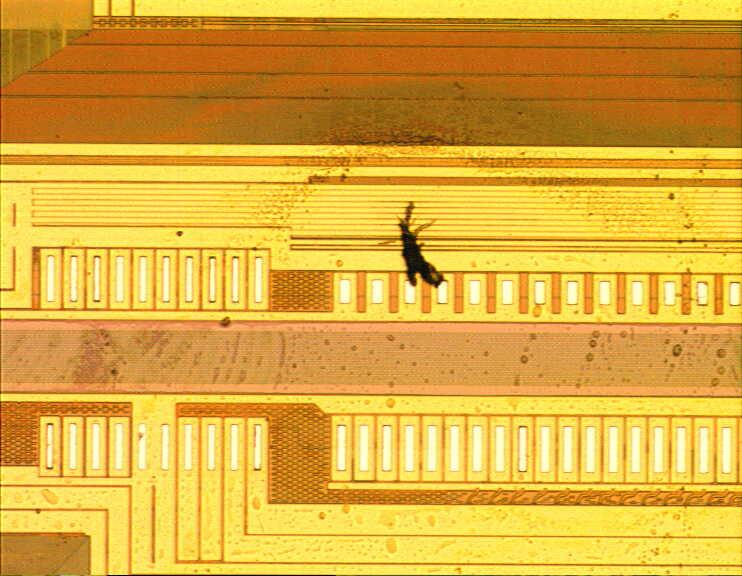PO CONTAMINATION: (2, 81, 742, 576)
